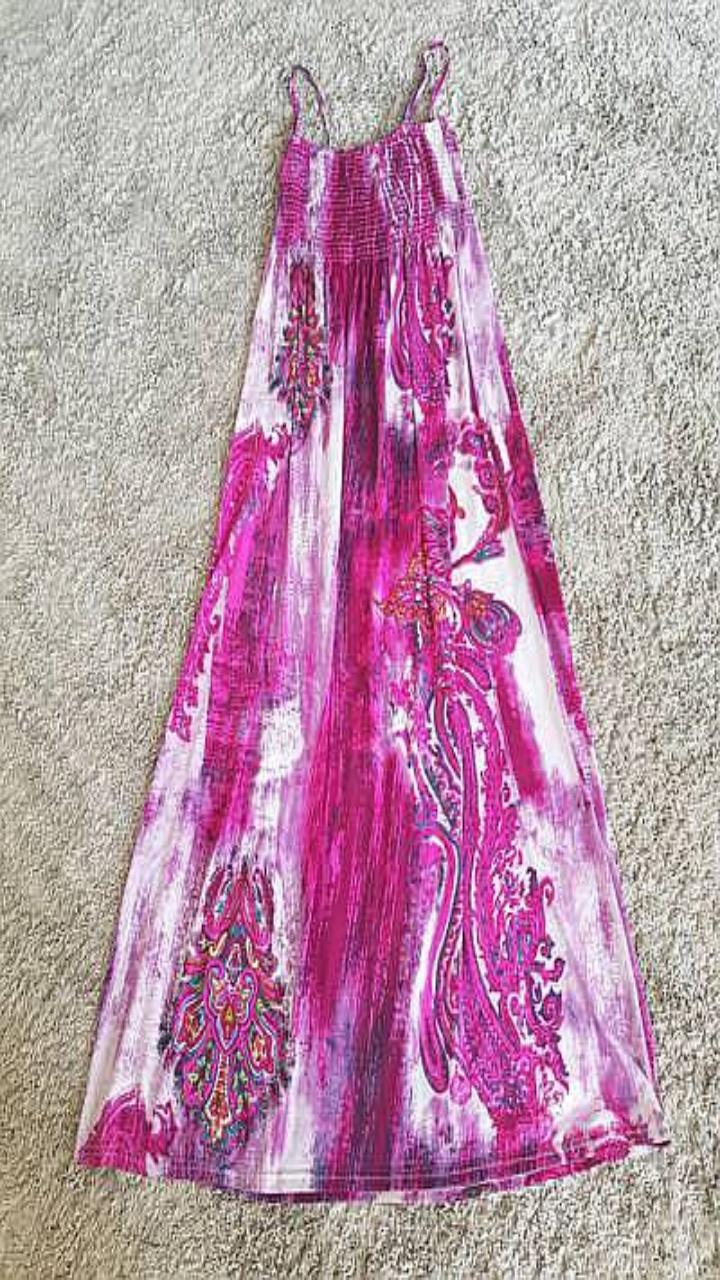Dresses: (75, 41, 667, 1199)
